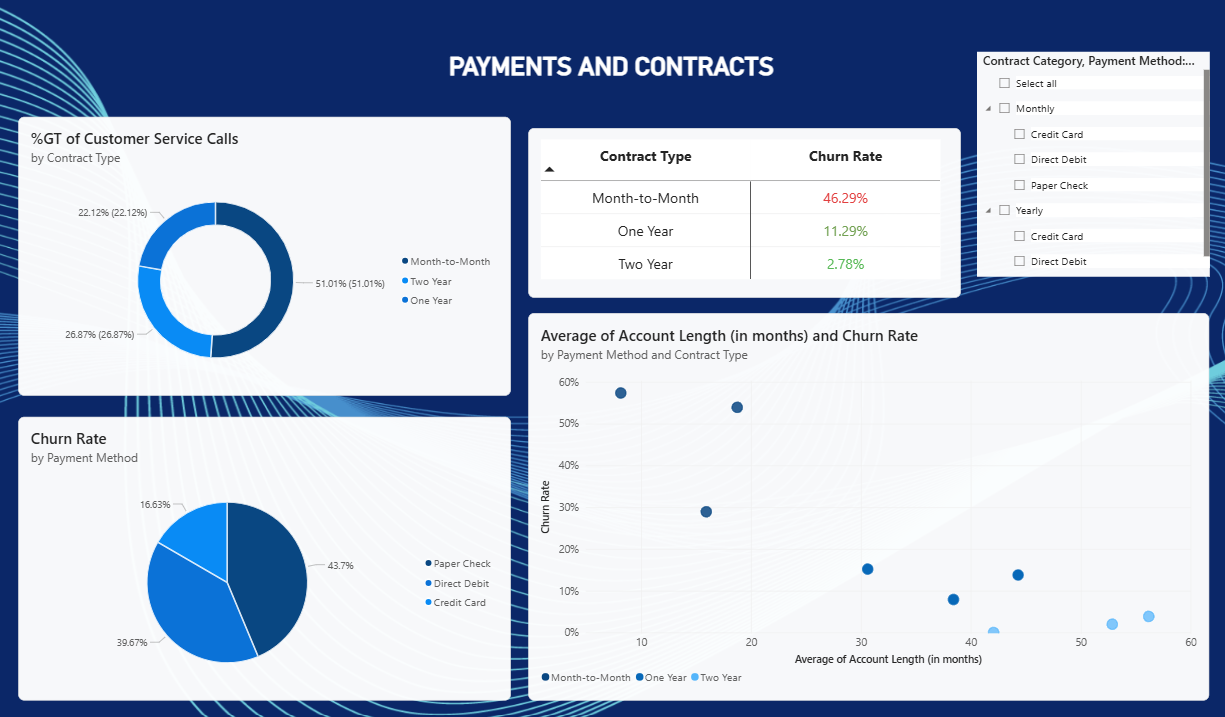

What the dashboard file says about the page in this screenshot:
{"tool":"powerbi","page":{"name":"Payments and Contracts","canvas":[1640,960],"ordinal":2},"visuals":[{"type":"scatterChart","fields":{"X":["Avg(Databel.Account Length (in months))"],"Y":["_Calculations.Churn Rate"],"Series":["Databel.Contract Type"],"Category":["Databel.Payment Method"]},"box":[708.3,420,908.3,516.7],"z":0},{"type":"textbox","box":[785,158.3,378.3,116.7],"z":1000},{"type":"slicer","fields":{"Values":["Databel.Contract Category","Databel.Payment Method"]},"box":[1306.9,43.1,310.3,329.3],"z":2000},{"type":"donutChart","title":"%GT of Customer Service Calls","fields":{"Category":["Databel.Contract Type"],"Y":["CountNonNull(Databel.Customer Service Calls)"]},"box":[28.3,158.3,656.7,371.7],"z":3000},{"type":"pieChart","fields":{"Category":["Databel.Payment Method"],"Y":["_Calculations.Churn Rate"]},"box":[28.3,558.3,656.7,378.3],"z":4000}]}

Visuals, with their boxes in screenshot pixels (x1, y1, x2, y2), scaled from the page's 1640x960 canvas onto the 1225x717 screenshot:
scatterChart - Avg(Databel.Account Length (in months)) x _Calculations.Churn Rate: Rect(529, 314, 1208, 700)
textbox: Rect(586, 118, 869, 205)
slicer - Databel.Contract Category x Databel.Payment Method: Rect(976, 32, 1208, 278)
"%GT of Customer Service Calls" donutChart: Rect(21, 118, 512, 396)
pieChart - Databel.Payment Method x _Calculations.Churn Rate: Rect(21, 417, 512, 700)
